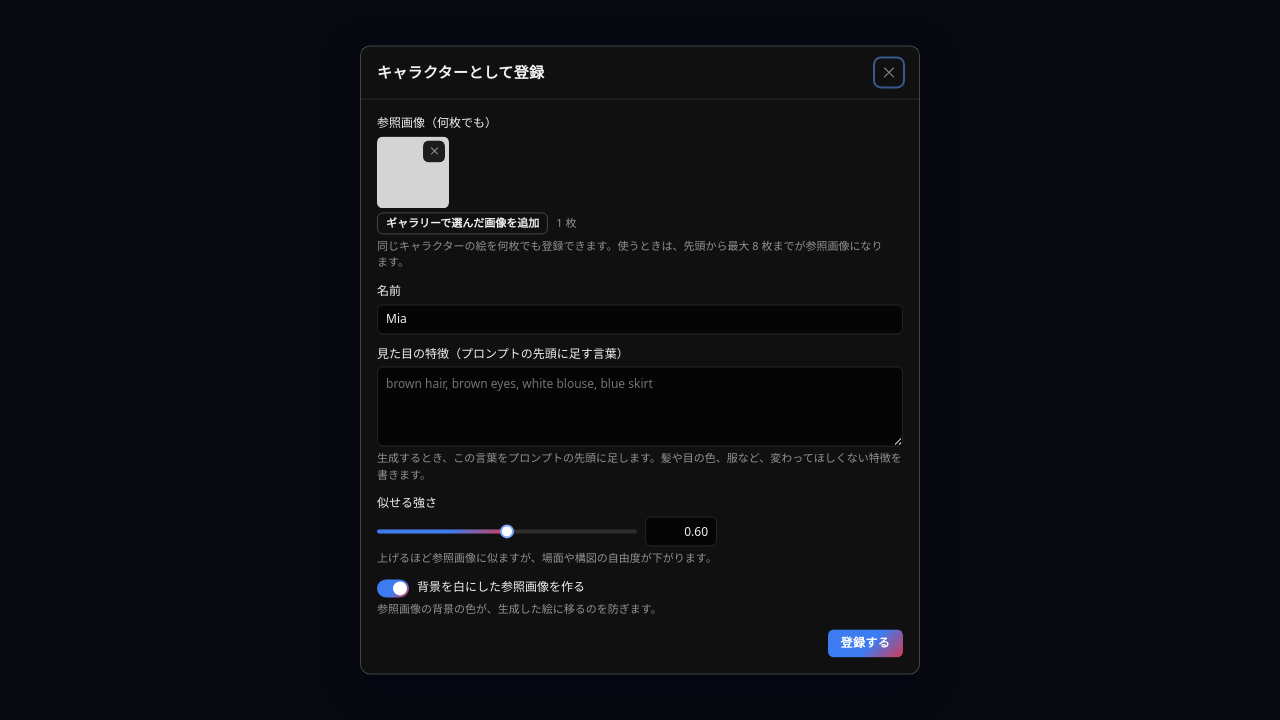
Test: register a character › keeps the dialog open and shows why when the background removal fails
Expected: the element with test id "character-dialog" is shown, [377, 115, 903, 658]
Click the button with test id "character-save": x=865, y=644 [828, 630, 903, 658]
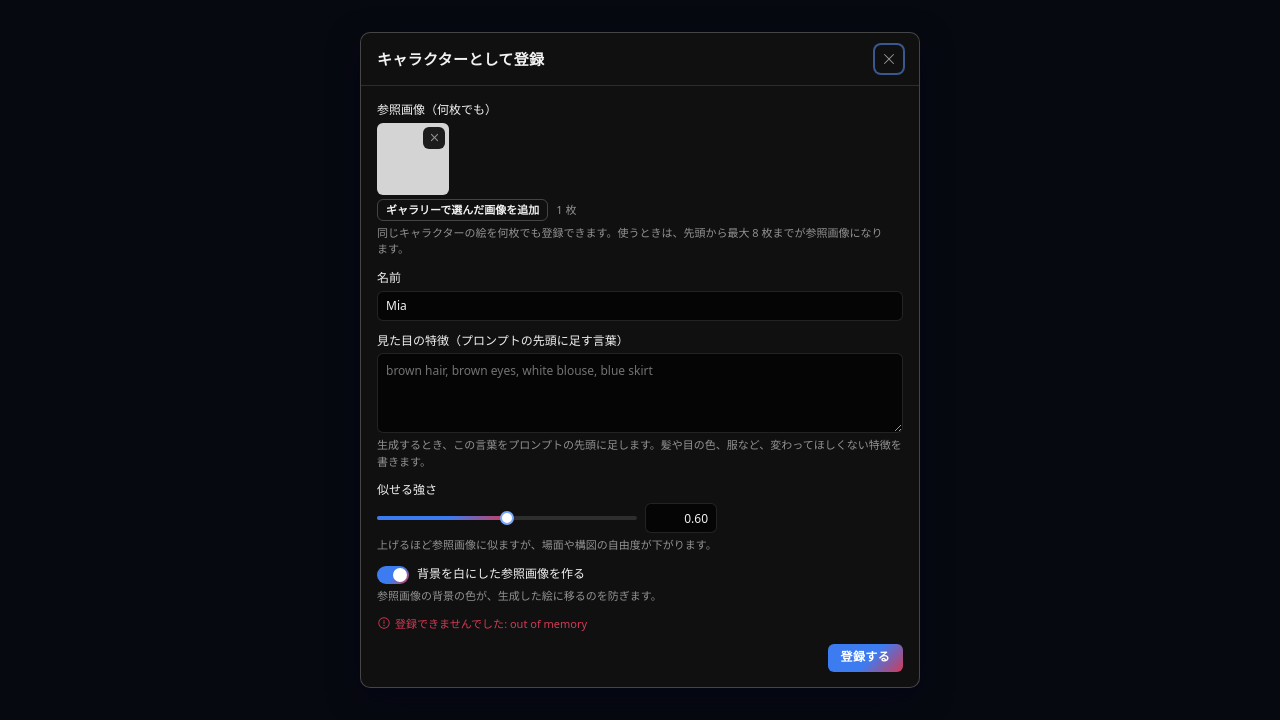
Expected: the message shows "out of memory", [510, 616, 587, 631]
